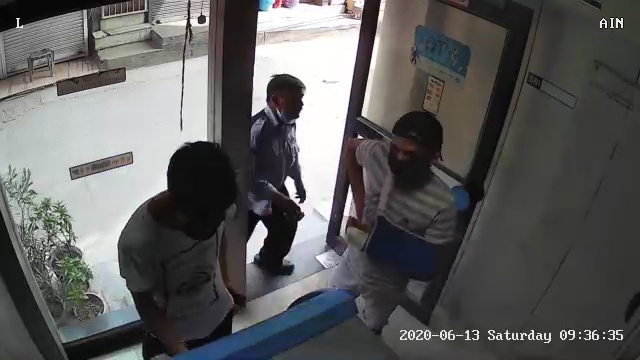open: (174, 5, 559, 344)
